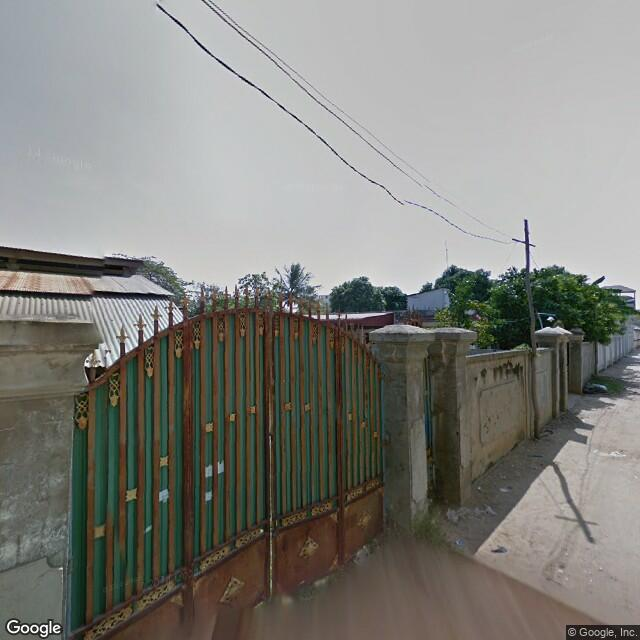litter: (443, 500, 500, 526), (588, 439, 628, 467), (449, 532, 467, 551)
